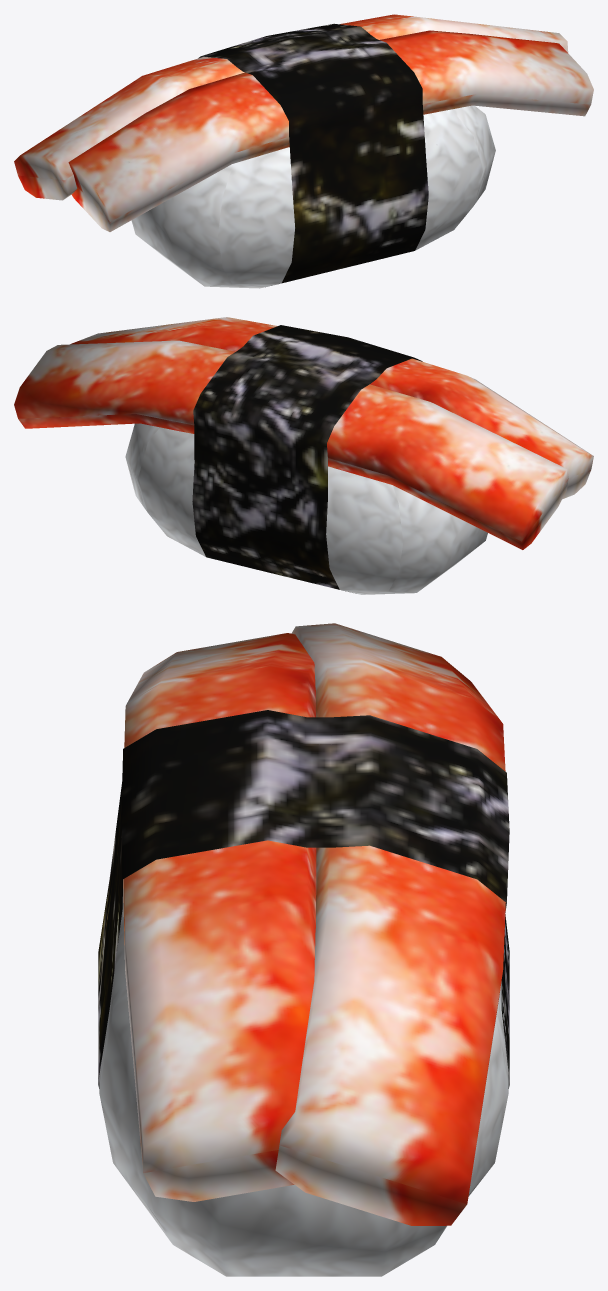
Rendered from crab_2.fbx.
The picture shows the model from 3 angles, top to bottom: view 1: azimuth 30°, elevation 25°; view 2: azimuth 150°, elevation 25°; view 3: azimuth 270°, elevation 25°; orthographic projection. The views are drawn at different scales.
Visible parts, largest first — view 1: crab_2; view 2: crab_2; view 3: crab_2.
Part boxes in pixels (x1=…): crab_2: x1=14, y1=14, x2=593, y2=288; crab_2: x1=14, y1=317, x2=593, y2=594; crab_2: x1=98, y1=623, x2=509, y2=1276.
Size of the model in its own units: 9.04 by 3.49 by 3.14.
